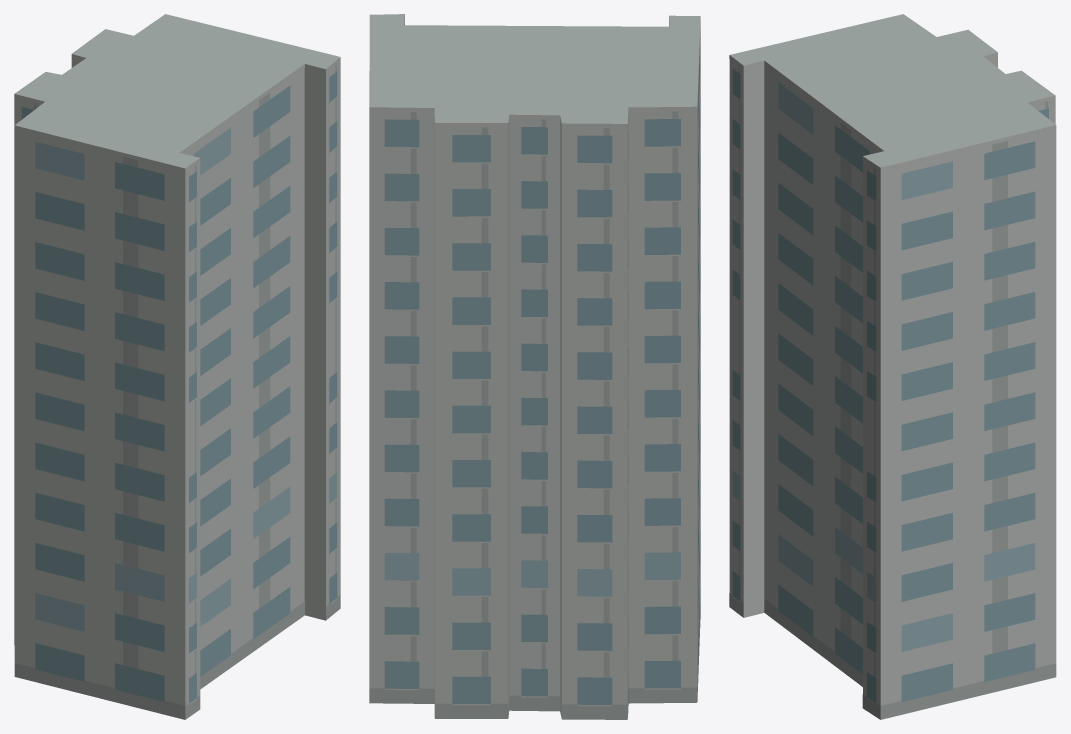
Rendered from survey-upis-32841076.glb.
3 renders of one model, left to right at view 1: azimuth 30°, elevation 25°; view 2: azimuth 150°, elevation 25°; view 3: azimuth 270°, elevation 25°, orthographic. The views are drawn at different scales.
Parts seen in each view (by area): view 1: survey-upis-32841076.tmp; view 2: survey-upis-32841076.tmp; view 3: survey-upis-32841076.tmp.
Boxes of the visible parts, x1=… form: survey-upis-32841076.tmp: x1=14, y1=14, x2=340, y2=719; survey-upis-32841076.tmp: x1=369, y1=14, x2=700, y2=719; survey-upis-32841076.tmp: x1=729, y1=14, x2=1056, y2=719.
Bounding box in the file's own units: 20.04 × 33.55 × 18.01.
